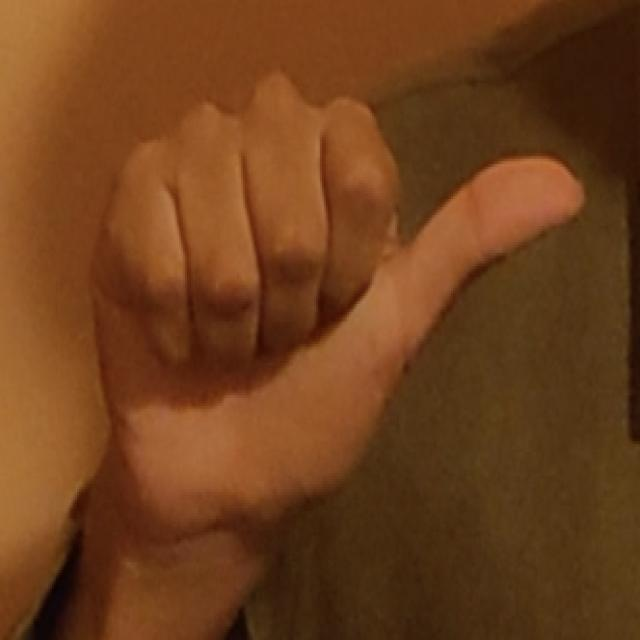A: (86, 55, 594, 531)
